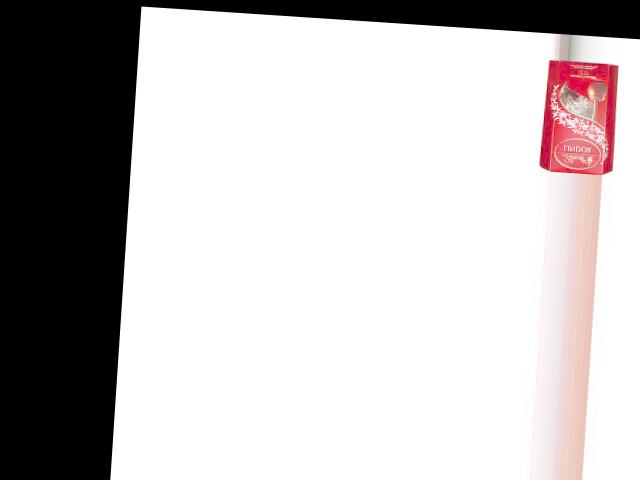chocolate: (537, 58, 625, 175)
